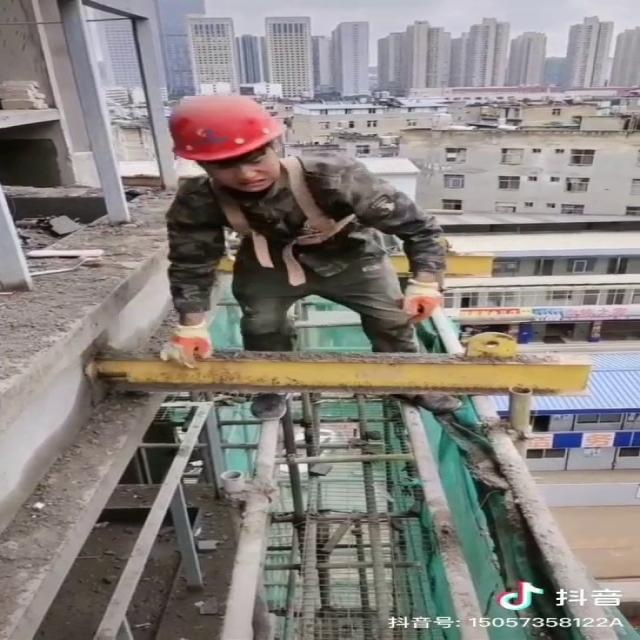Arnes_seguridad: (198, 158, 377, 285)
